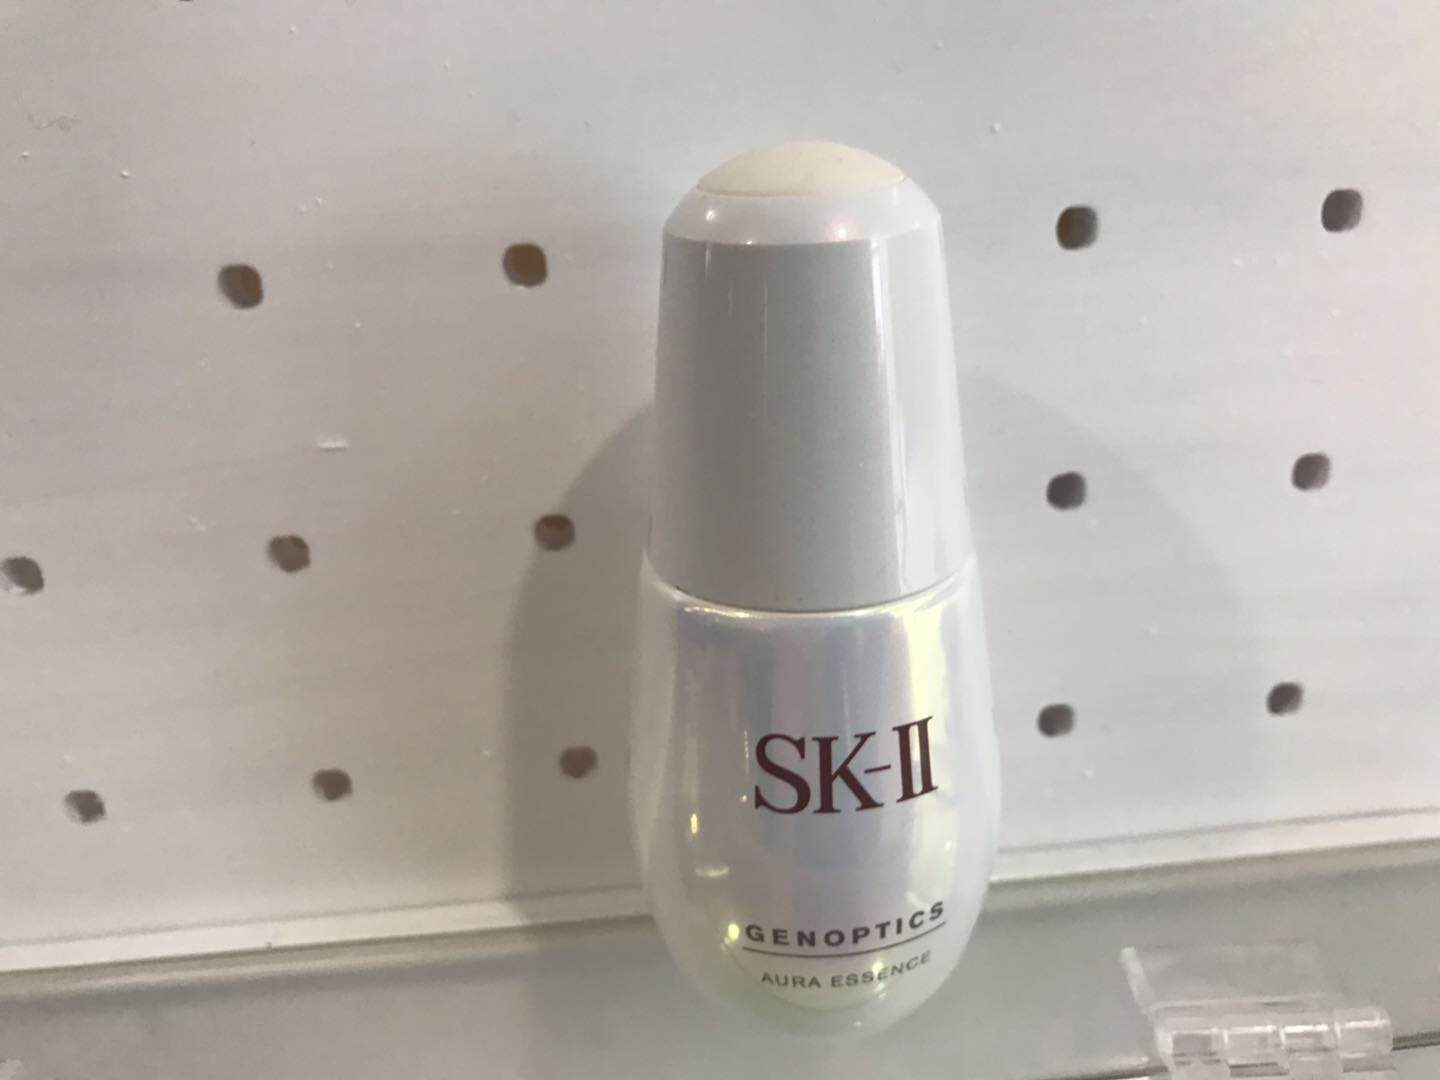sk2: (610, 108, 1042, 1064)
